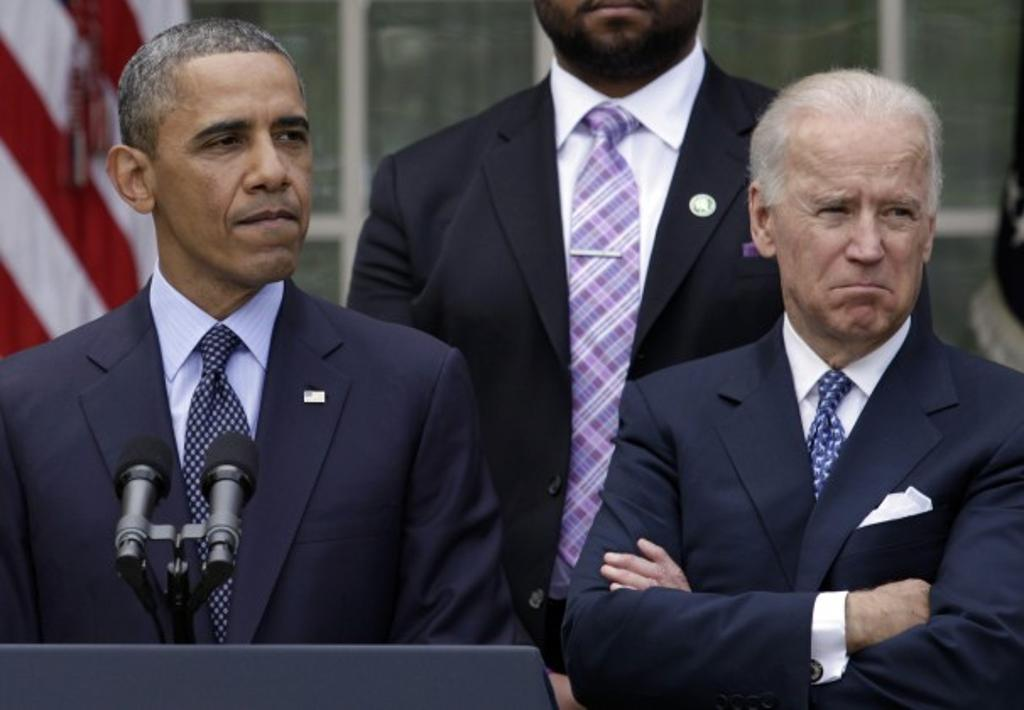face: (160, 56, 316, 280), (782, 120, 928, 342)
